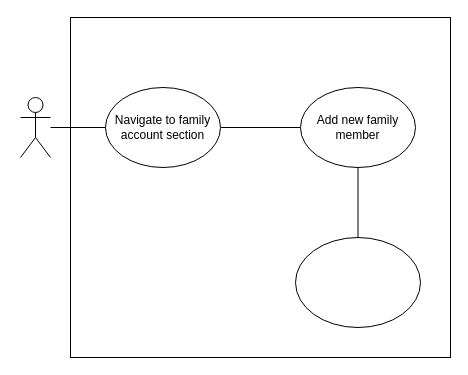
This 468x375 diagram has some shape labels left out. The shapes that lost their labels are listed below. From the top down, each one's centre as x and y in pixels, then its label:
the point at 35,127: Patient
the point at 357,282: New family member is created and linked to the main account
